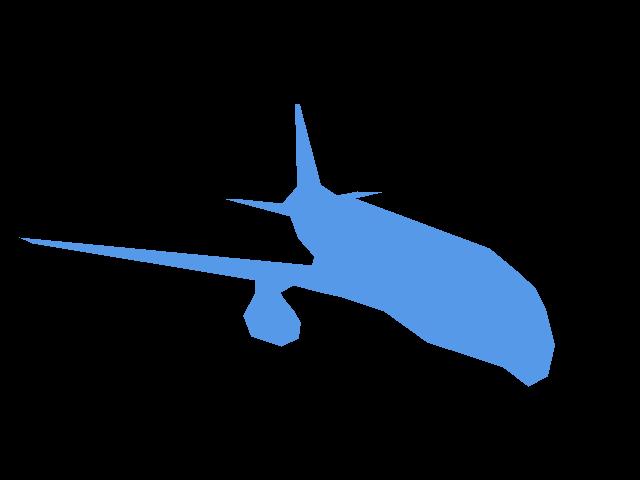Airplane: (19, 104, 554, 387)
